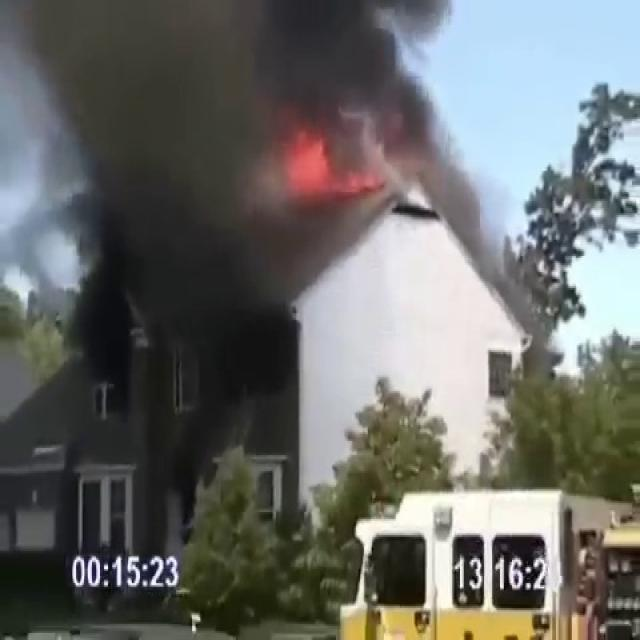Smoke: (0, 0, 494, 380)
